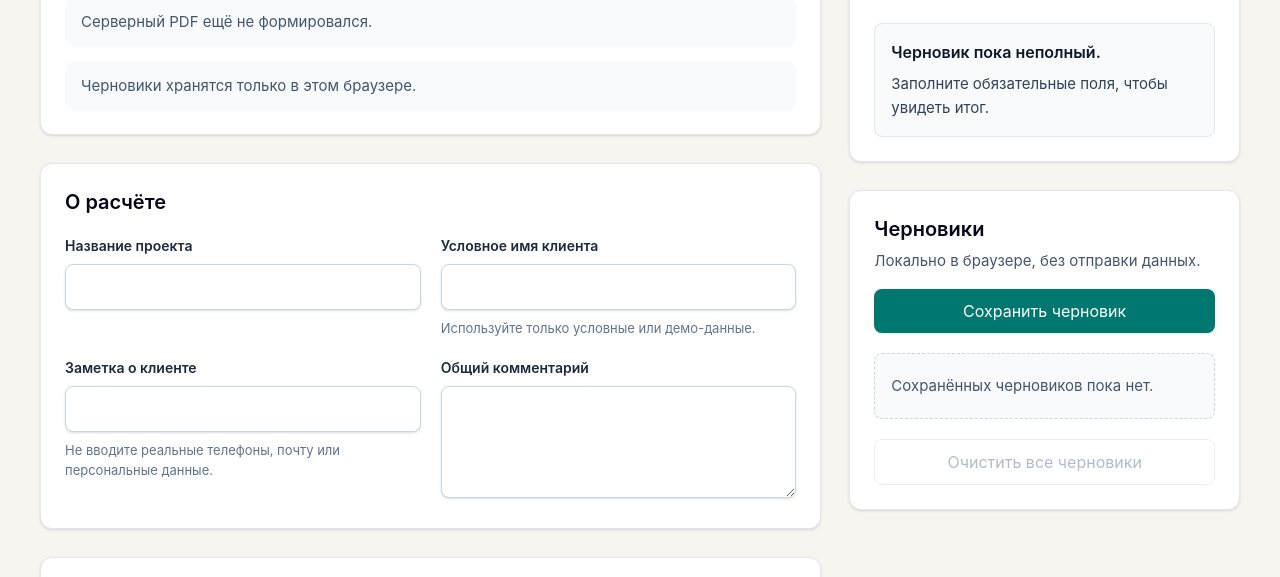
QuoteFlow print representation › shows the print action only for a valid calculation
(page scrolled)
Expected: the button "Печать / сохранить PDF" is not shown
Type "Печатный расчёт" into the field labelled "Название проекта".
click(243, 287); type("Печатный расчёт")  # box [65,264,421,310]
(page scrolled)
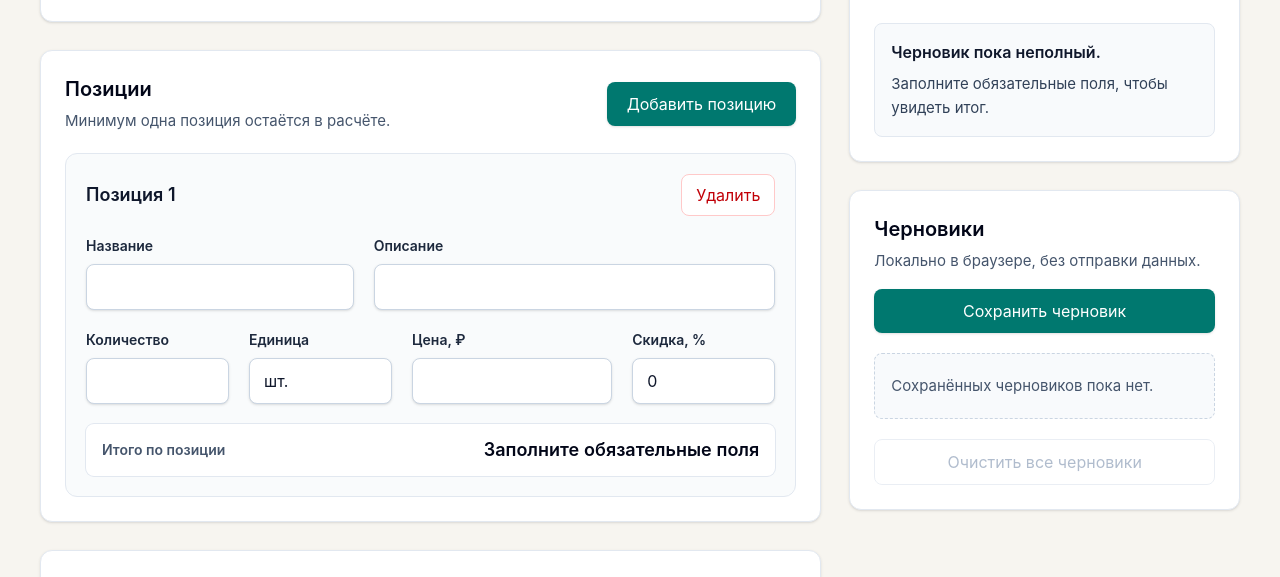
Type "Прототип" into the field labelled "Название".
click(220, 287); type("Прототип")  # box [86,264,354,310]
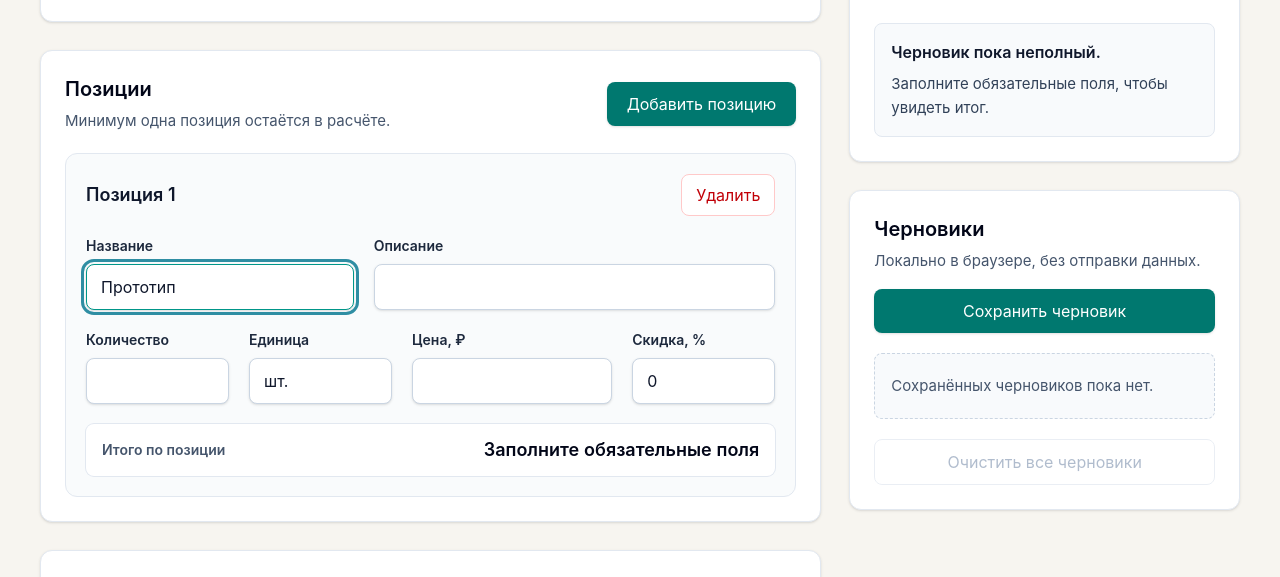
Type "2" into the field labelled "Количество".
click(158, 381); type("2")  # box [86,358,229,404]
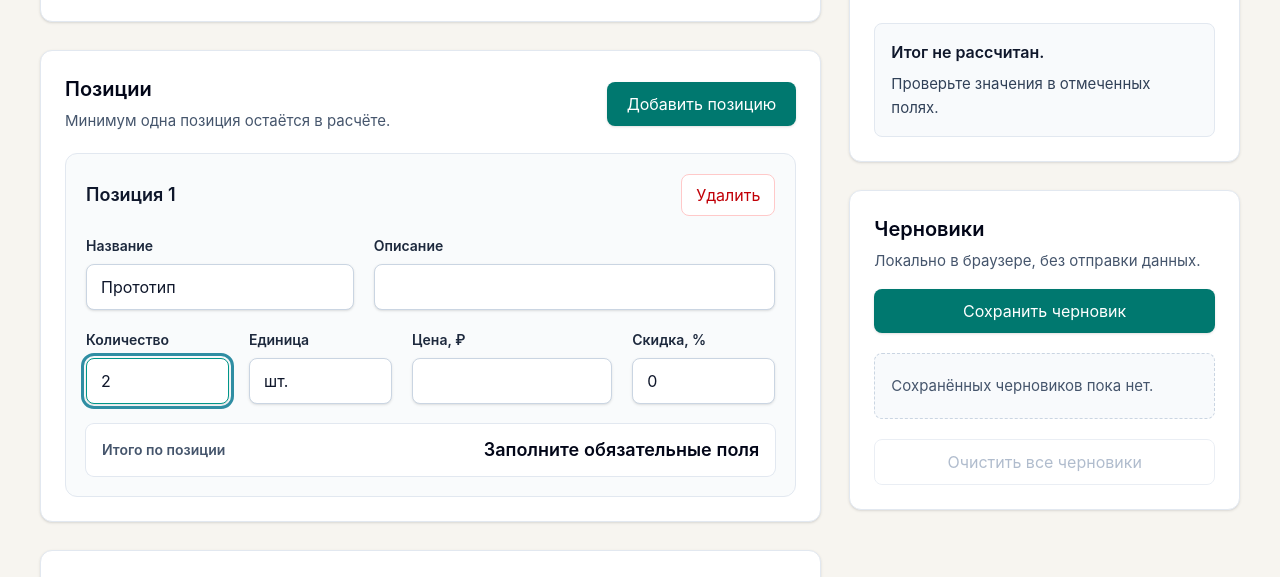
Type "1500" into the field labelled "Цена, ₽".
click(512, 381); type("1500")  # box [412,358,612,404]
(page scrolled)
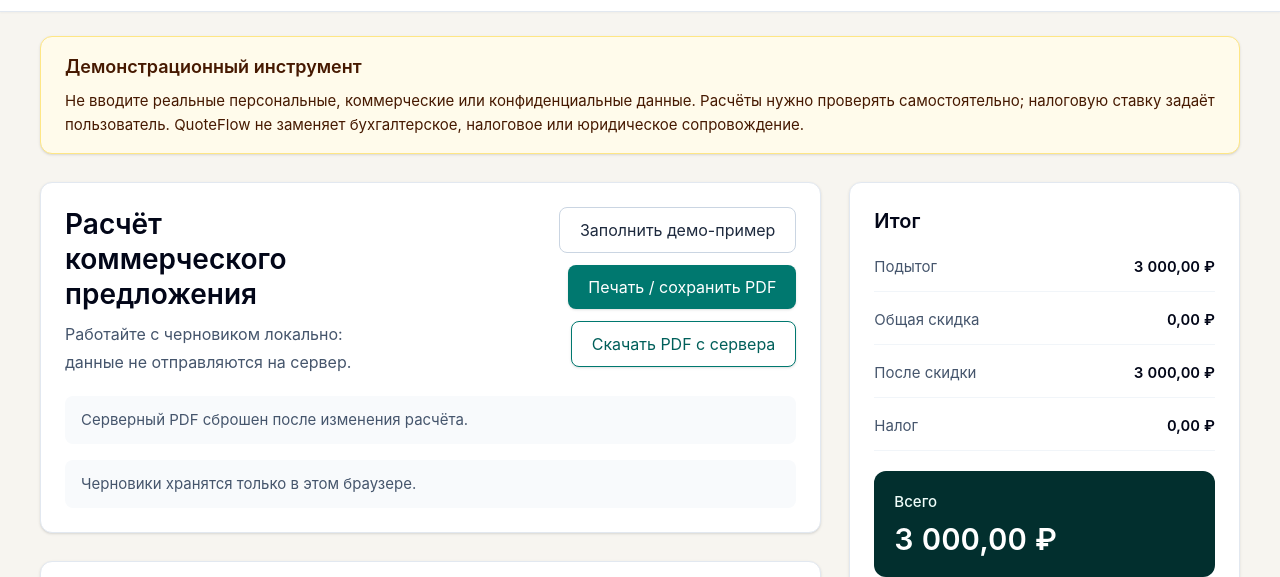
Result: the button "Печать / сохранить PDF" is shown at [568,265,796,309]
